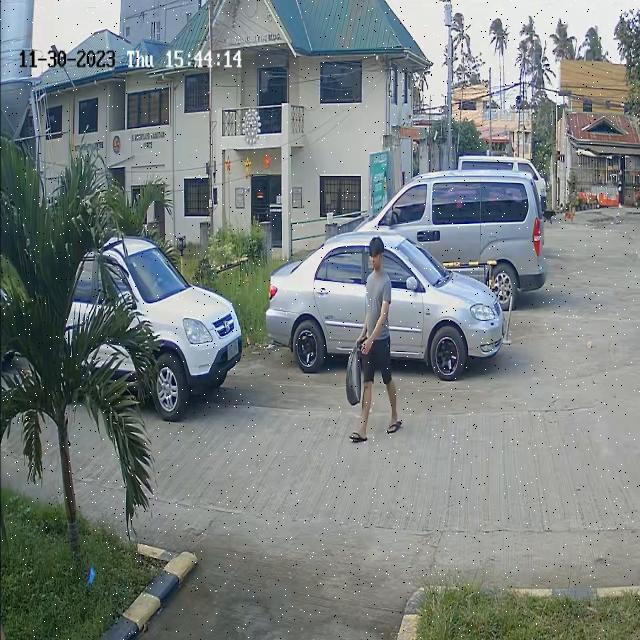human: (352, 233, 396, 454)
trash: (343, 339, 368, 412)
